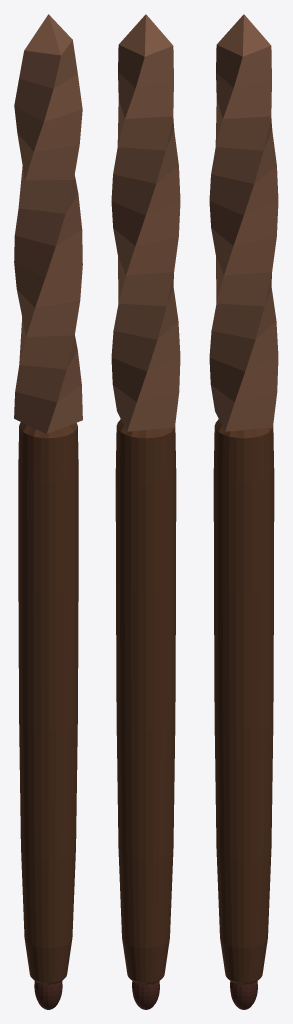
Rendered from Wand 56.glb.
3 renders of one model, left to right at view 1: azimuth 90°, elevation 25°; view 2: azimuth 150°, elevation 25°; view 3: azimuth 330°, elevation 25°, orthographic.
Visible parts, largest first — view 1: GeneratedWand; view 2: GeneratedWand; view 3: GeneratedWand.
Part boxes in pixels (left/top/right/bottom): GeneratedWand: left=14, top=14, right=82, bottom=1009; GeneratedWand: left=111, top=14, right=180, bottom=1009; GeneratedWand: left=209, top=14, right=278, bottom=1009.
Size of the model in its own units: 0.0311 by 0.4961 by 0.0311.
